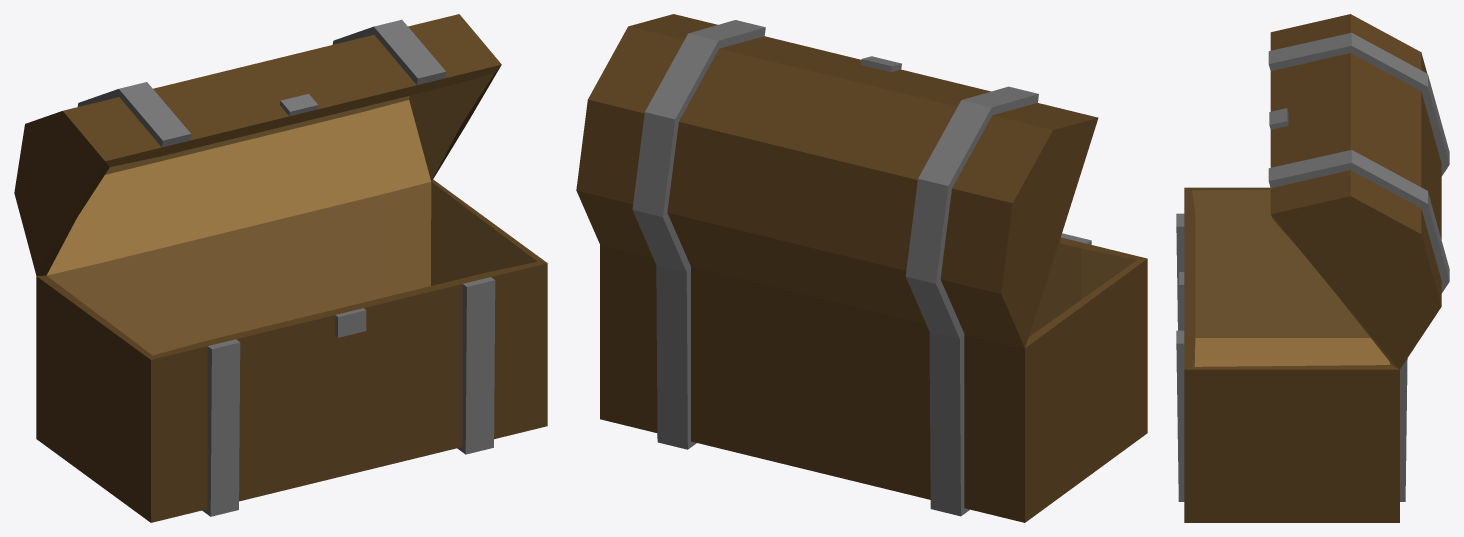
The model's file is Chest.fbx.
The picture shows the model from 3 angles, left to right: view 1: azimuth 30°, elevation 25°; view 2: azimuth 150°, elevation 25°; view 3: azimuth 270°, elevation 25°; orthographic projection. The views are drawn at different scales.
Parts seen in each view (by area): view 1: Kist; view 2: Kist; view 3: Kist.
Boxes of the visible parts, <box> form: Kist: <box>14,14,547,522</box>; Kist: <box>576,14,1147,522</box>; Kist: <box>1176,14,1449,522</box>.
Size of the model in its own units: 1 by 0.869 by 0.6341.
